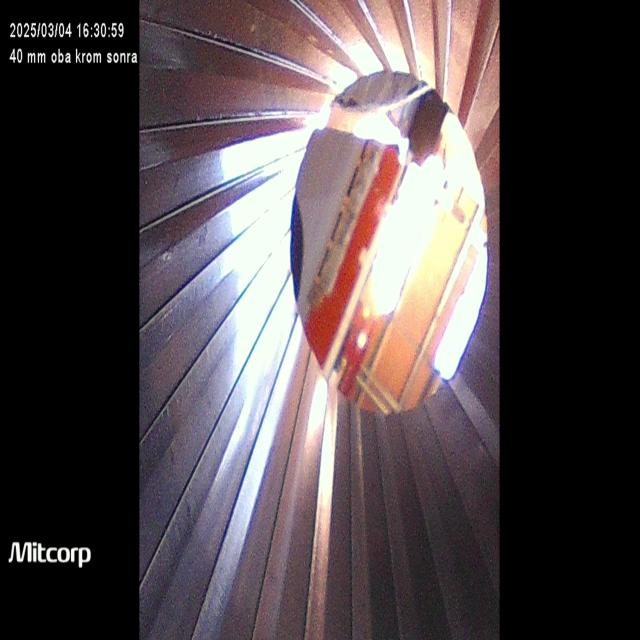hata_8.2: (158, 238, 181, 272), (196, 220, 217, 256), (160, 444, 184, 474), (265, 555, 284, 592), (201, 387, 222, 419), (180, 504, 202, 532), (170, 163, 186, 194)
